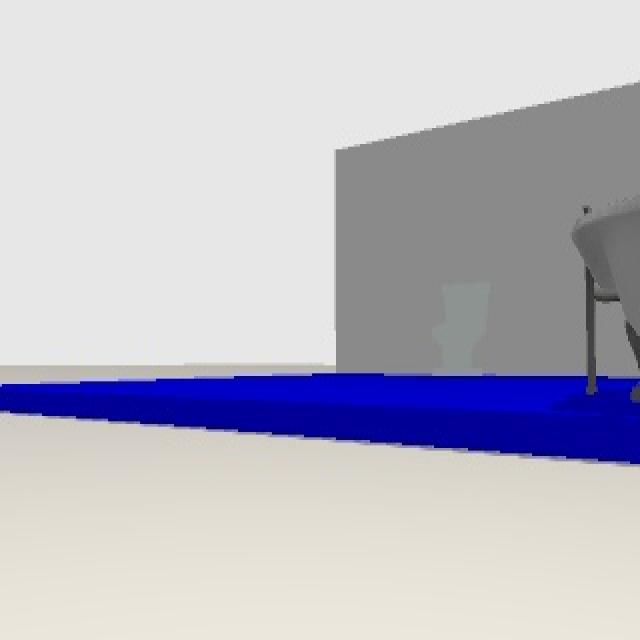bathtub: (570, 197, 638, 397)
